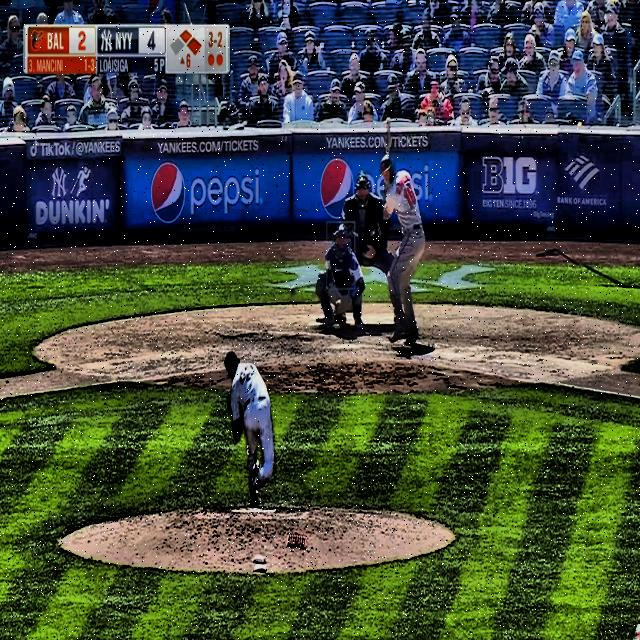baseball: (290, 285, 296, 295)
